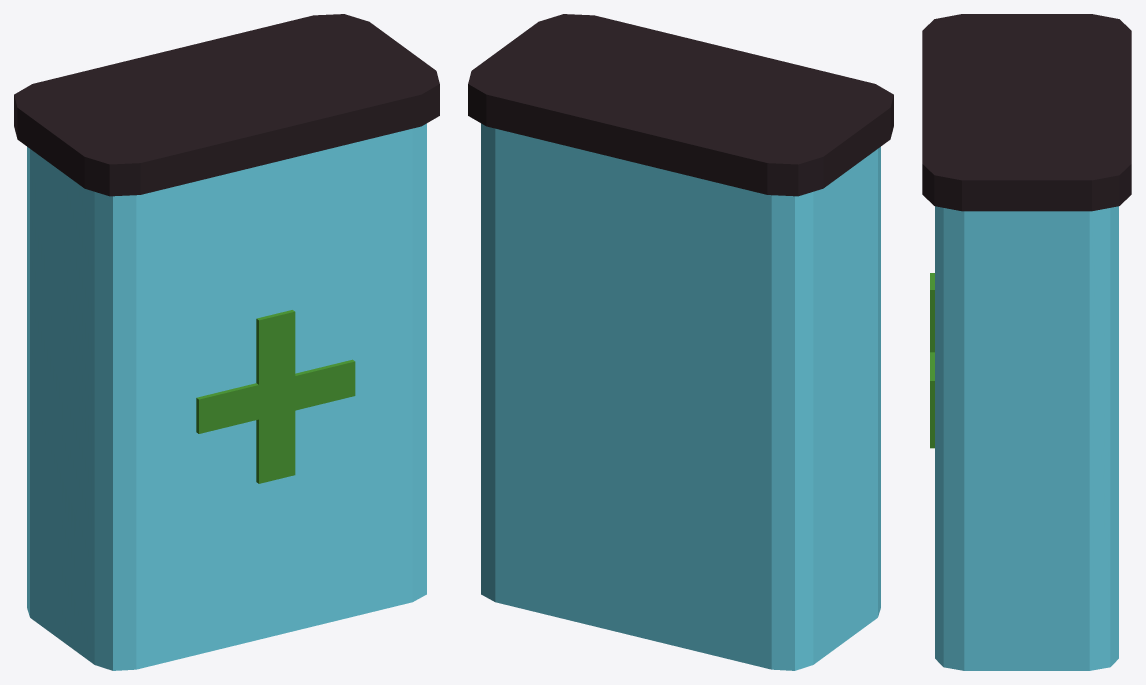
File: Midicine_04.fbx
3 renders of one model, left to right at view 1: azimuth 30°, elevation 25°; view 2: azimuth 150°, elevation 25°; view 3: azimuth 270°, elevation 25°, orthographic. The views are drawn at different scales.
Parts seen in each view (by area): view 1: Midicine_04; view 2: Midicine_04; view 3: Midicine_04.
Part boxes in pixels (bbox=[...]): Midicine_04: bbox=[14, 14, 439, 670]; Midicine_04: bbox=[468, 14, 893, 670]; Midicine_04: bbox=[922, 14, 1131, 670].
Size of the model in its own units: 15.59 by 21.66 by 8.29.
